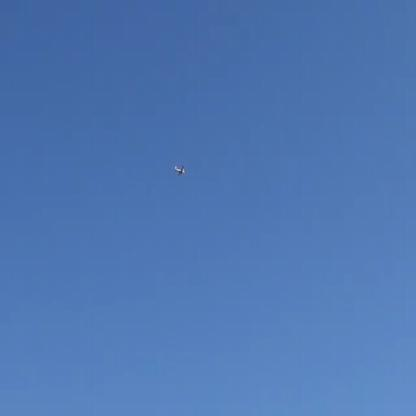CIV_Plane: (174, 164, 185, 176)
